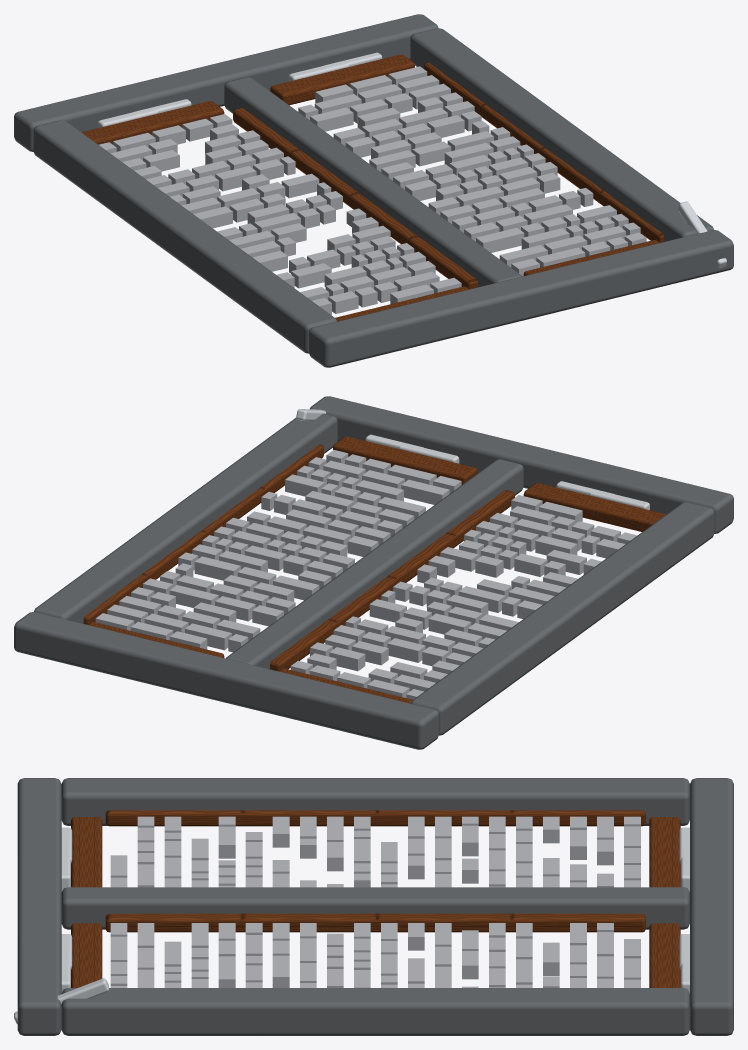
File: printing-press-and-newspaper-office-chase-and-quoins-dfc8638e__37738.glb
3 views of the same model, one above another, from view 1: azimuth 30°, elevation 25°; view 2: azimuth 150°, elevation 25°; view 3: azimuth 270°, elevation 25° (orthographic). The views are drawn at different scales.
Visible parts, largest first — view 1: chase-and-quoins; view 2: chase-and-quoins; view 3: chase-and-quoins.
Part boxes in pixels (x1,y1,x2,y2): chase-and-quoins: (14, 14, 733, 367); chase-and-quoins: (14, 396, 733, 749); chase-and-quoins: (14, 778, 733, 1035).
Bounding box in the file's own units: 0.86 × 0.0884 × 1.15.
4 materials, 1 textured.
